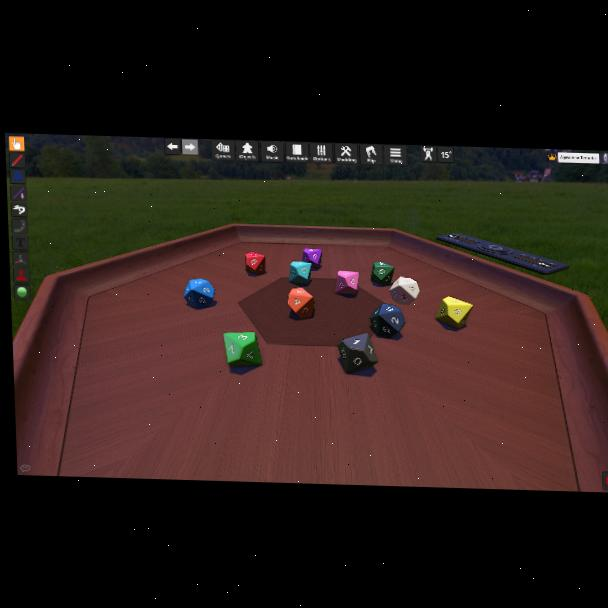d10: (336, 334, 375, 375), (224, 331, 262, 368), (434, 296, 472, 330), (369, 303, 404, 337), (183, 278, 216, 309), (389, 276, 419, 305), (287, 287, 315, 318), (289, 260, 313, 285), (371, 261, 395, 285), (335, 271, 358, 295), (245, 252, 266, 274), (302, 248, 321, 268)
